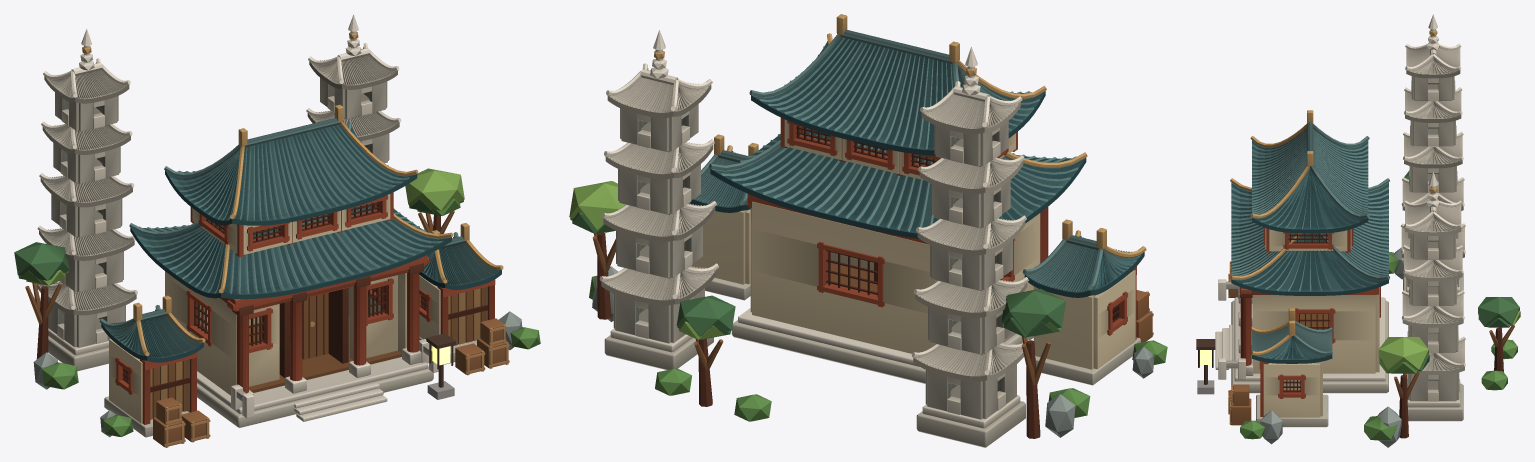
Rendered from quanzhou.glb.
3 renders of one model, left to right at view 1: azimuth 30°, elevation 25°; view 2: azimuth 150°, elevation 25°; view 3: azimuth 270°, elevation 25°, orthographic. The views are drawn at different scales.
Parts seen in each view (by area): view 1: quanzhou_QZ_RoofRib, quanzhou_QZ_Roof, quanzhou_QZ_Timber, quanzhou_QZ_Cream, quanzhou_QZ_PagodaCutEdge, quanzhou_QZ_StoneLight, quanzhou_QZ_PagodaBody, quanzhou_QZ_Wood, quanzhou_QZ_TimberDark, quanzhou_QZ_PagodaRoof, quanzhou_QZ_RoofLight, quanzhou_QZ_RoofDark (+10 smaller); view 2: quanzhou_QZ_Cream, quanzhou_QZ_PagodaBody, quanzhou_QZ_PagodaCutEdge, quanzhou_QZ_RoofRib, quanzhou_QZ_Roof, quanzhou_QZ_PagodaRoof, quanzhou_QZ_StoneLight, quanzhou_QZ_PagodaEaveUnderside, quanzhou_QZ_Stone, quanzhou_QZ_Timber, quanzhou_QZ_RoofLight, quanzhou_QZ_LeafDark (+8 smaller); view 3: quanzhou_QZ_RoofRib, quanzhou_QZ_Roof, quanzhou_QZ_Cream, quanzhou_QZ_PagodaCutEdge, quanzhou_QZ_PagodaBody, quanzhou_QZ_StoneLight, quanzhou_QZ_Timber, quanzhou_QZ_RoofLight, quanzhou_QZ_PagodaEaveUnderside, quanzhou_QZ_Stone, quanzhou_QZ_Leaf, quanzhou_QZ_PagodaRoof (+8 smaller).
Boxes of the visible parts, x1=… form: quanzhou_QZ_RoofRib: x1=99, y1=118, x2=501, y2=357; quanzhou_QZ_Roof: x1=102, y1=124, x2=501, y2=358; quanzhou_QZ_Timber: x1=115, y1=192, x2=495, y2=424; quanzhou_QZ_Cream: x1=109, y1=194, x2=487, y2=423; quanzhou_QZ_PagodaCutEdge: x1=39, y1=47, x2=397, y2=355; quanzhou_QZ_StoneLight: x1=37, y1=14, x2=438, y2=421; quanzhou_QZ_PagodaBody: x1=48, y1=78, x2=389, y2=371; quanzhou_QZ_Wood: x1=25, y1=211, x2=508, y2=447; quanzhou_QZ_TimberDark: x1=36, y1=201, x2=487, y2=392; quanzhou_QZ_PagodaRoof: x1=38, y1=49, x2=398, y2=310; quanzhou_QZ_RoofLight: x1=105, y1=127, x2=494, y2=357; quanzhou_QZ_RoofDark: x1=101, y1=170, x2=501, y2=362; quanzhou_QZ_Cream: x1=688, y1=119, x2=1135, y2=369; quanzhou_QZ_PagodaBody: x1=604, y1=104, x2=1025, y2=447; quanzhou_QZ_PagodaCutEdge: x1=602, y1=68, x2=1024, y2=428; quanzhou_QZ_RoofRib: x1=693, y1=29, x2=1140, y2=291; quanzhou_QZ_Roof: x1=693, y1=38, x2=1142, y2=292; quanzhou_QZ_PagodaRoof: x1=604, y1=70, x2=1025, y2=376; quanzhou_QZ_StoneLight: x1=599, y1=30, x2=1029, y2=375; quanzhou_QZ_PagodaEaveUnderside: x1=601, y1=84, x2=1027, y2=418; quanzhou_QZ_Stone: x1=705, y1=277, x2=1140, y2=385; quanzhou_QZ_Timber: x1=747, y1=117, x2=1136, y2=339; quanzhou_QZ_RoofLight: x1=701, y1=37, x2=1135, y2=292; quanzhou_QZ_LeafDark: x1=572, y1=212, x2=1065, y2=338; quanzhou_QZ_RoofRib: x1=1231, y1=122, x2=1389, y2=359; quanzhou_QZ_Roof: x1=1231, y1=129, x2=1388, y2=359; quanzhou_QZ_Cream: x1=1252, y1=228, x2=1379, y2=417; quanzhou_QZ_PagodaCutEdge: x1=1401, y1=48, x2=1464, y2=407; quanzhou_QZ_PagodaBody: x1=1403, y1=76, x2=1463, y2=421; quanzhou_QZ_StoneLight: x1=1215, y1=14, x2=1465, y2=381; quanzhou_QZ_Timber: x1=1240, y1=227, x2=1380, y2=416; quanzhou_QZ_RoofLight: x1=1231, y1=130, x2=1388, y2=359; quanzhou_QZ_PagodaEaveUnderside: x1=1401, y1=70, x2=1464, y2=389; quanzhou_QZ_Stone: x1=1231, y1=300, x2=1388, y2=427; quanzhou_QZ_Leaf: x1=1240, y1=252, x2=1517, y2=440; quanzhou_QZ_PagodaRoof: x1=1401, y1=48, x2=1464, y2=370.
Size of the model in its own units: 5.26 by 3.93 by 3.95.
